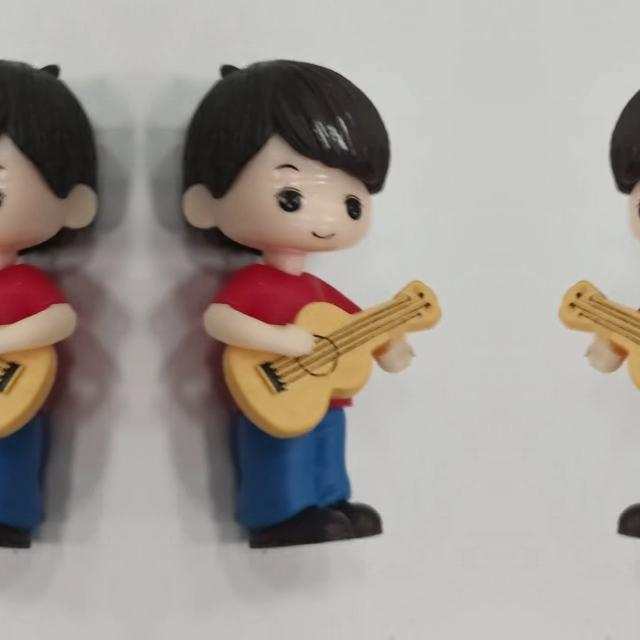man cloth: (212, 264, 392, 406), (0, 264, 67, 405), (608, 264, 640, 405)
man head: (172, 58, 396, 258), (0, 57, 108, 258), (604, 57, 640, 258)
trousers: (230, 404, 390, 574), (0, 404, 50, 574), (610, 404, 640, 574)
